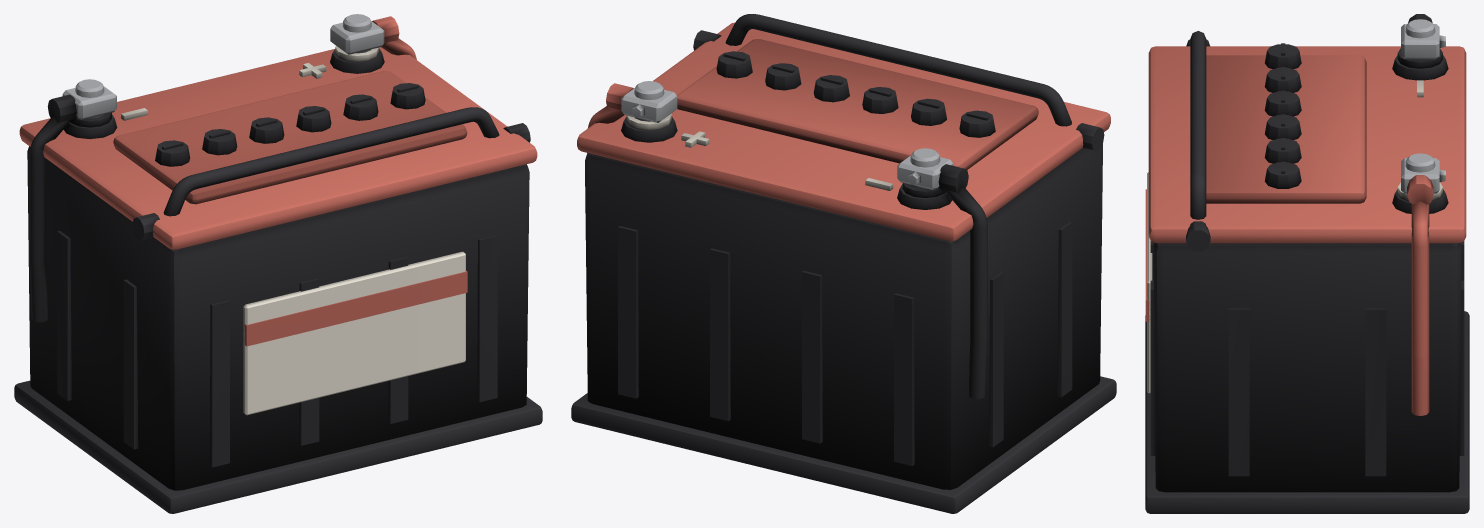
File: bat_std.glb
3 views of the same model, side by side, from view 1: azimuth 30°, elevation 25°; view 2: azimuth 150°, elevation 25°; view 3: azimuth 270°, elevation 25° (orthographic). The views are drawn at different scales.
Visible parts, largest first — view 1: PART; view 2: PART; view 3: PART.
Boxes of the visible parts, bbox=[...] form: PART: bbox=[14, 14, 542, 513]; PART: bbox=[571, 14, 1116, 513]; PART: bbox=[1145, 14, 1469, 513].
Size of the model in its own units: 0.26 by 0.207 by 0.184.
